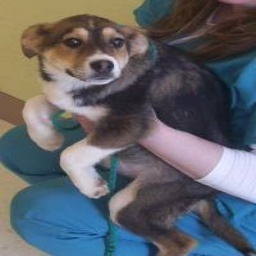dog: (18, 8, 234, 250)
